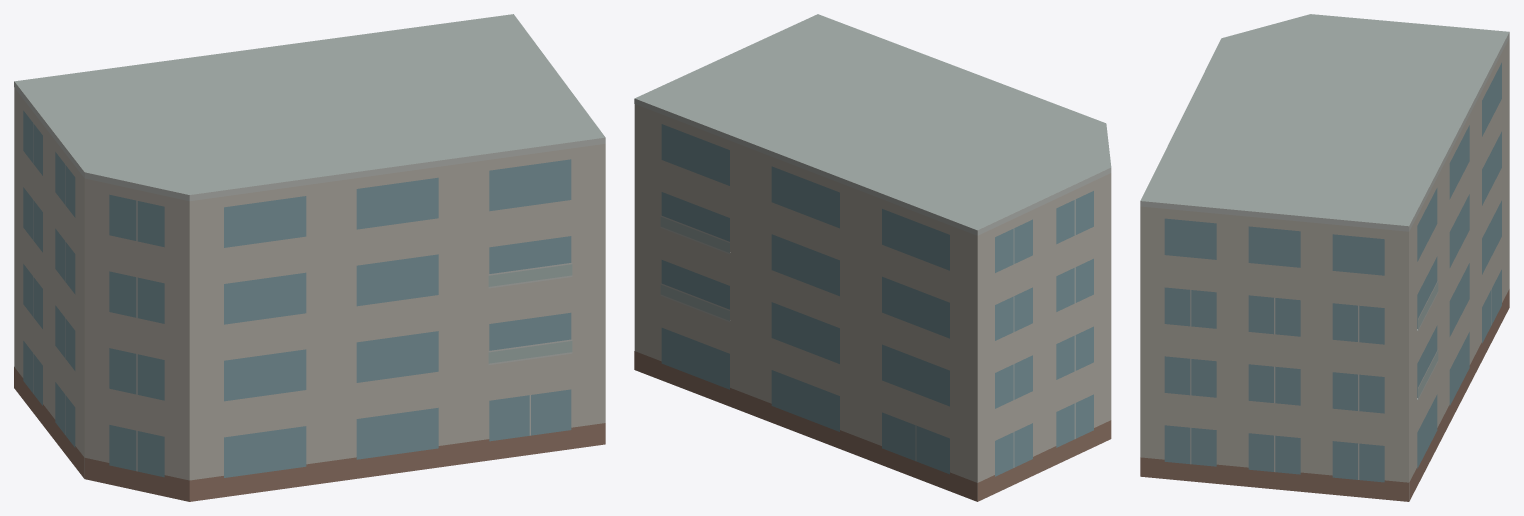
Rendered from survey-upis-32843283.glb.
The picture shows the model from 3 angles, left to right: view 1: azimuth 30°, elevation 25°; view 2: azimuth 150°, elevation 25°; view 3: azimuth 270°, elevation 25°; orthographic projection. The views are drawn at different scales.
Visible parts, largest first — view 1: survey-upis-32843283.tmp; view 2: survey-upis-32843283.tmp; view 3: survey-upis-32843283.tmp.
Part boxes in pixels (left/top/right/bottom): survey-upis-32843283.tmp: left=14, top=14, right=605, bottom=501; survey-upis-32843283.tmp: left=634, top=14, right=1111, bottom=501; survey-upis-32843283.tmp: left=1140, top=14, right=1509, bottom=501.
Size of the model in its own units: 20.15 by 12.2 by 14.82.
